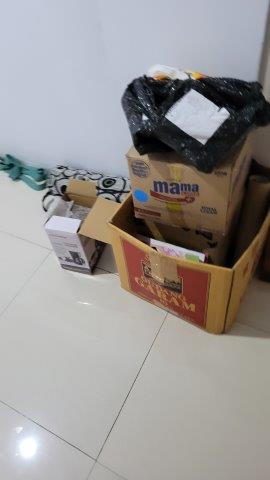kardus: (87, 153, 270, 334), (42, 179, 118, 276)
kertas: (166, 88, 230, 146)
